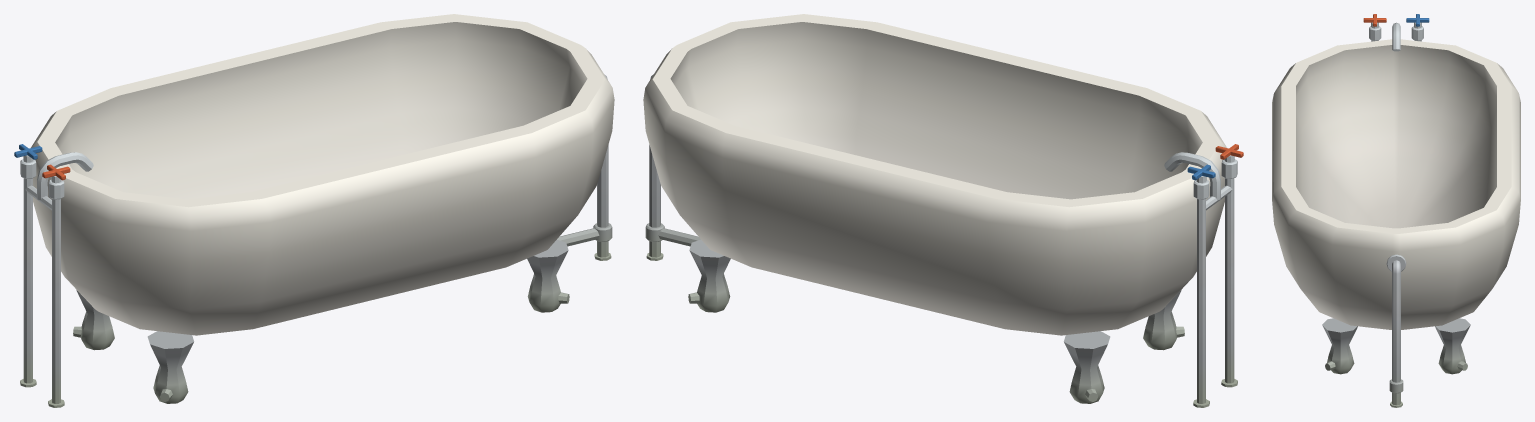
The model's file is bathtub.glb.
The picture shows the model from 3 angles, left to right: view 1: azimuth 30°, elevation 25°; view 2: azimuth 150°, elevation 25°; view 3: azimuth 270°, elevation 25°; orthographic projection. The views are drawn at different scales.
Parts seen in each view (by area): view 1: SM_Bathtub_Clawfoot_01; view 2: SM_Bathtub_Clawfoot_01; view 3: SM_Bathtub_Clawfoot_01.
Boxes of the visible parts, x1,y1,x2,y2 form: SM_Bathtub_Clawfoot_01: (14, 14, 614, 407); SM_Bathtub_Clawfoot_01: (643, 14, 1243, 407); SM_Bathtub_Clawfoot_01: (1272, 14, 1520, 407).
Size of the model in its own units: 1.55 by 0.598 by 0.756.
Materials: 1 (1 with a texture image).
